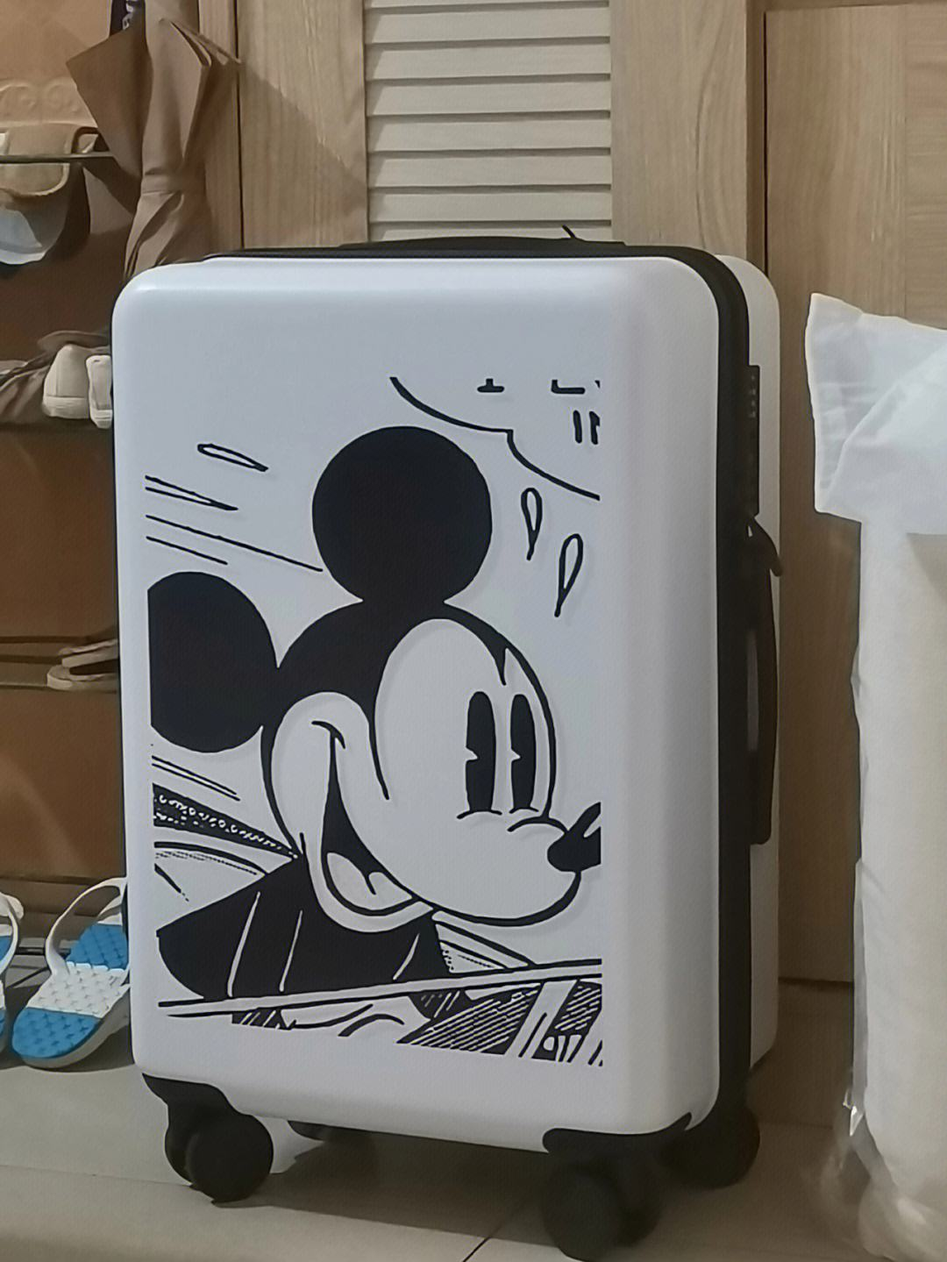box: (110, 251, 778, 1152)
handle: (733, 532, 778, 845), (336, 236, 624, 253)
lock: (732, 367, 758, 523)
wheel: (540, 1157, 661, 1262), (163, 1112, 274, 1202), (673, 1099, 760, 1187)
